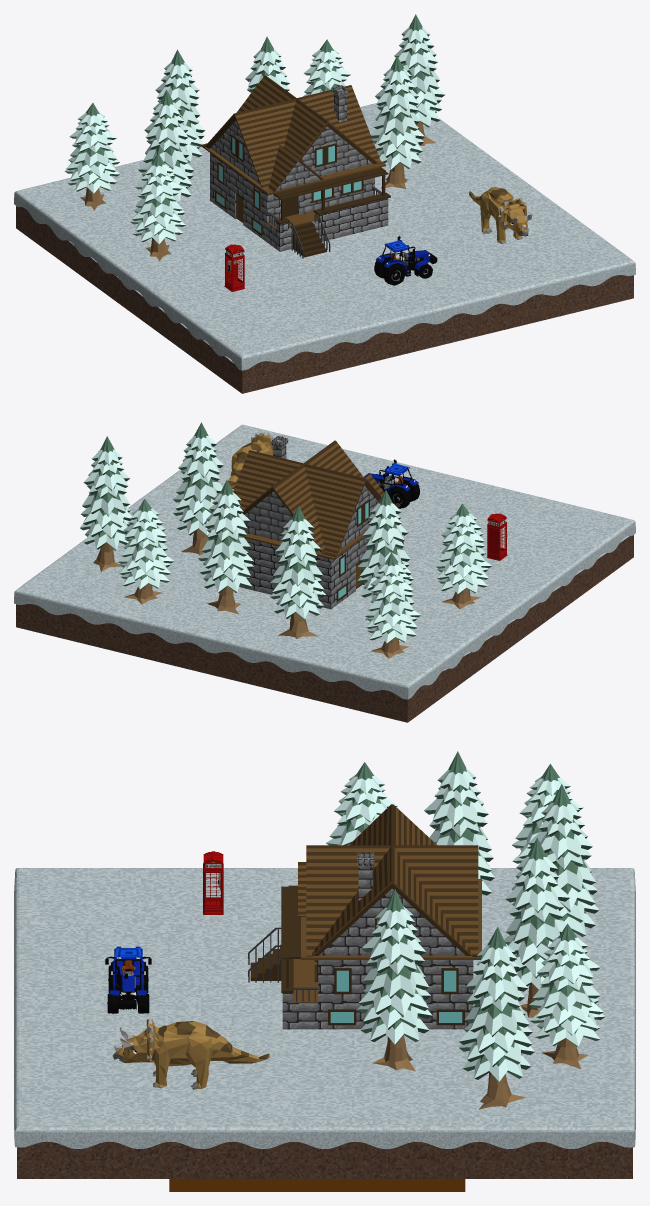
3 views of the same model, one above another, from view 1: azimuth 30°, elevation 25°; view 2: azimuth 150°, elevation 25°; view 3: azimuth 270°, elevation 25° (orthographic). The views are drawn at different scales.
Parts seen in each view (by area): view 1: Cube.003, Cube.586, ANIMAL_Triceratops, VEHICLES_TRACTOR, OBJRANDOM_PHONEBOOTH; view 2: Cube.003, Cube.586, VEHICLES_TRACTOR, ANIMAL_Triceratops, OBJRANDOM_PHONEBOOTH; view 3: Cube.003, Cube.586, ANIMAL_Triceratops, UNDERGROUND_ART_PIECE_VAN_GOGH, VEHICLES_TRACTOR, OBJRANDOM_PHONEBOOTH.
Part boxes in pixels (left/top/right/bottom): Cube.003: left=14, top=14, right=635, bottom=393; Cube.586: left=201, top=75, right=390, bottom=258; ANIMAL_Triceratops: left=469, top=187, right=532, bottom=243; VEHICLES_TRACTOR: left=374, top=236, right=437, bottom=285; OBJRANDOM_PHONEBOOTH: left=224, top=244, right=244, bottom=291; Cube.003: left=14, top=422, right=635, bottom=722; Cube.586: left=233, top=436, right=403, bottom=609; VEHICLES_TRACTOR: left=364, top=459, right=419, bottom=508; ANIMAL_Triceratops: left=228, top=432, right=283, bottom=489; OBJRANDOM_PHONEBOOTH: left=487, top=513, right=507, bottom=560; Cube.003: left=14, top=751, right=635, bottom=1178; Cube.586: left=248, top=804, right=481, bottom=1029; ANIMAL_Triceratops: left=112, top=1017, right=269, bottom=1089; UNDERGROUND_ART_PIECE_VAN_GOGH: left=169, top=1179, right=465, bottom=1191; VEHICLES_TRACTOR: left=105, top=946, right=151, bottom=1013; OBJRANDOM_PHONEBOOTH: left=203, top=851, right=223, bottom=914.
Size of the model in its own units: 4040 by 1818 by 4040.
Materials: 36 (5 with a texture image).
